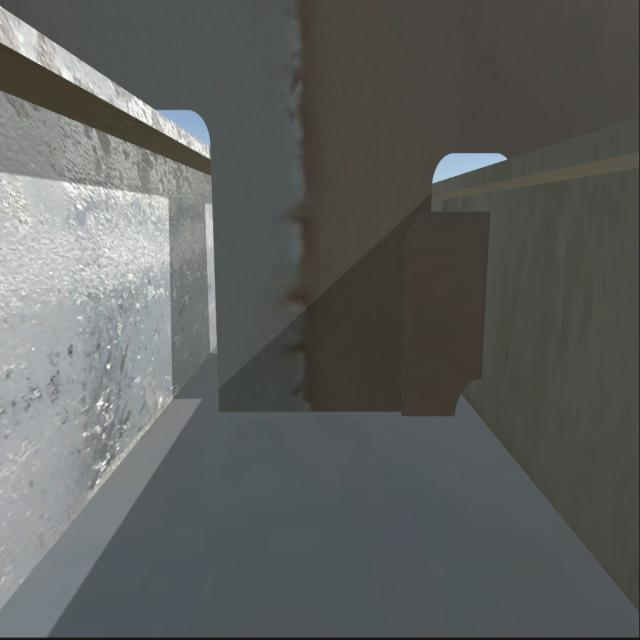fillet_hole: (452, 377, 484, 422)
fillet_yong_jeop_jang: (218, 414, 449, 416)
longi_yong_jeop_jang: (478, 215, 490, 368)
plate_CP03: (403, 216, 490, 414)
